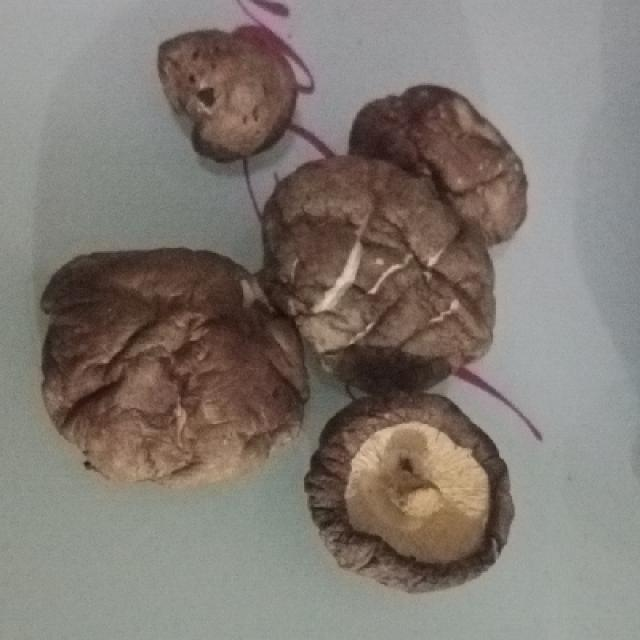Lentinus edodes: (39, 246, 312, 486), (262, 160, 492, 378), (309, 390, 515, 594), (364, 85, 527, 236), (160, 24, 292, 163)
